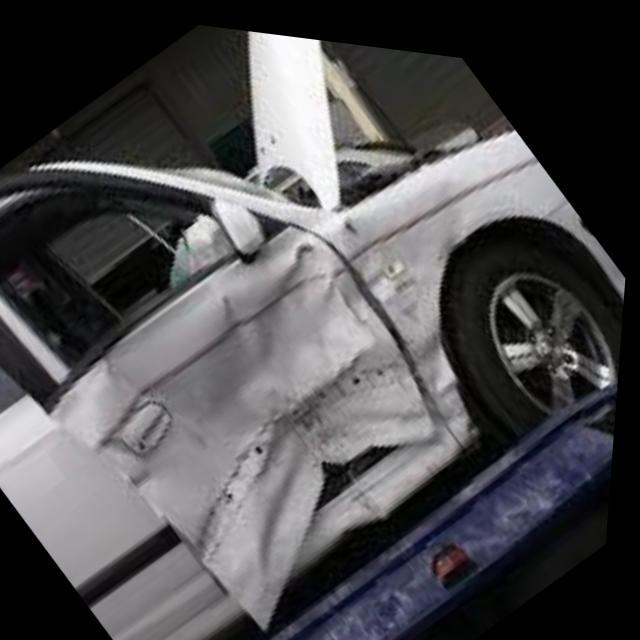dent: (56, 137, 510, 636)
